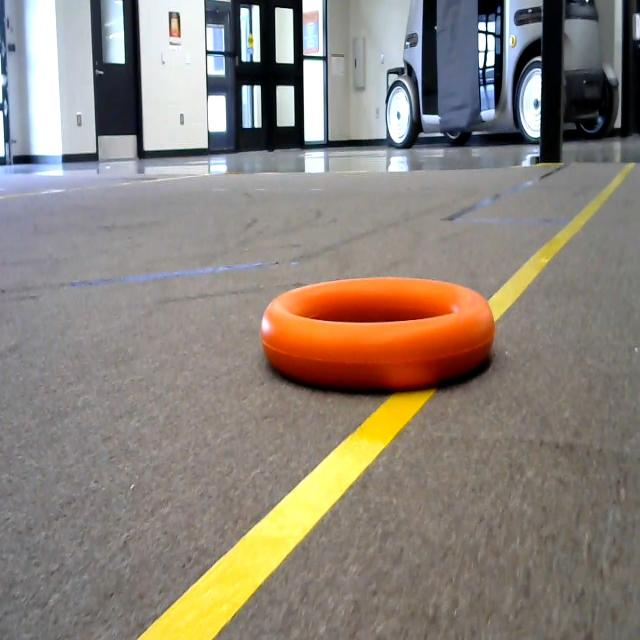note: (259, 249, 505, 401)
